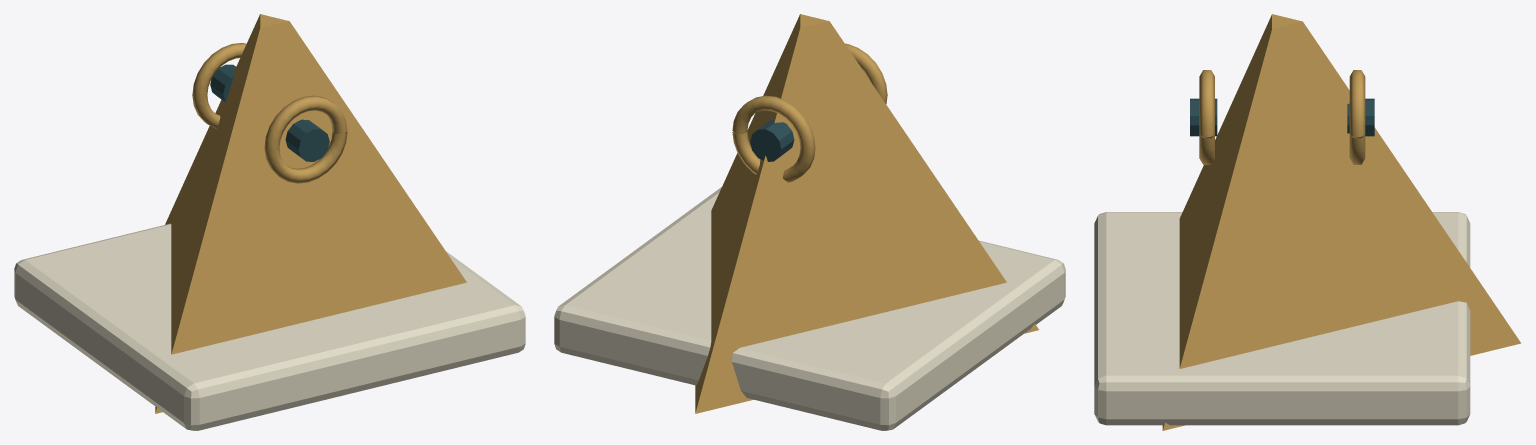
File: fulcrum.fbx
3 views of the same model, side by side, from view 1: azimuth 30°, elevation 25°; view 2: azimuth 150°, elevation 25°; view 3: azimuth 270°, elevation 25° (orthographic). The views are drawn at different scales.
Visible parts, largest first — view 1: fulcrum_Aged brass, Rail shoe, fulcrum_Midnight teal; view 2: fulcrum_Aged brass, Rail shoe, fulcrum_Midnight teal; view 3: fulcrum_Aged brass, Rail shoe, fulcrum_Midnight teal.
Part boxes in pixels (bbox=[...]): fulcrum_Aged brass: bbox=[155, 14, 466, 413]; Rail shoe: bbox=[14, 223, 525, 430]; fulcrum_Midnight teal: bbox=[210, 64, 329, 161]; fulcrum_Aged brass: bbox=[695, 14, 1038, 413]; Rail shoe: bbox=[554, 187, 1065, 430]; fulcrum_Midnight teal: bbox=[750, 120, 794, 161]; fulcrum_Aged brass: bbox=[1162, 14, 1521, 430]; Rail shoe: bbox=[1094, 212, 1470, 425]; fulcrum_Midnight teal: bbox=[1190, 98, 1374, 136].
Bounding box in the file's own units: 121 × 104 × 125.
